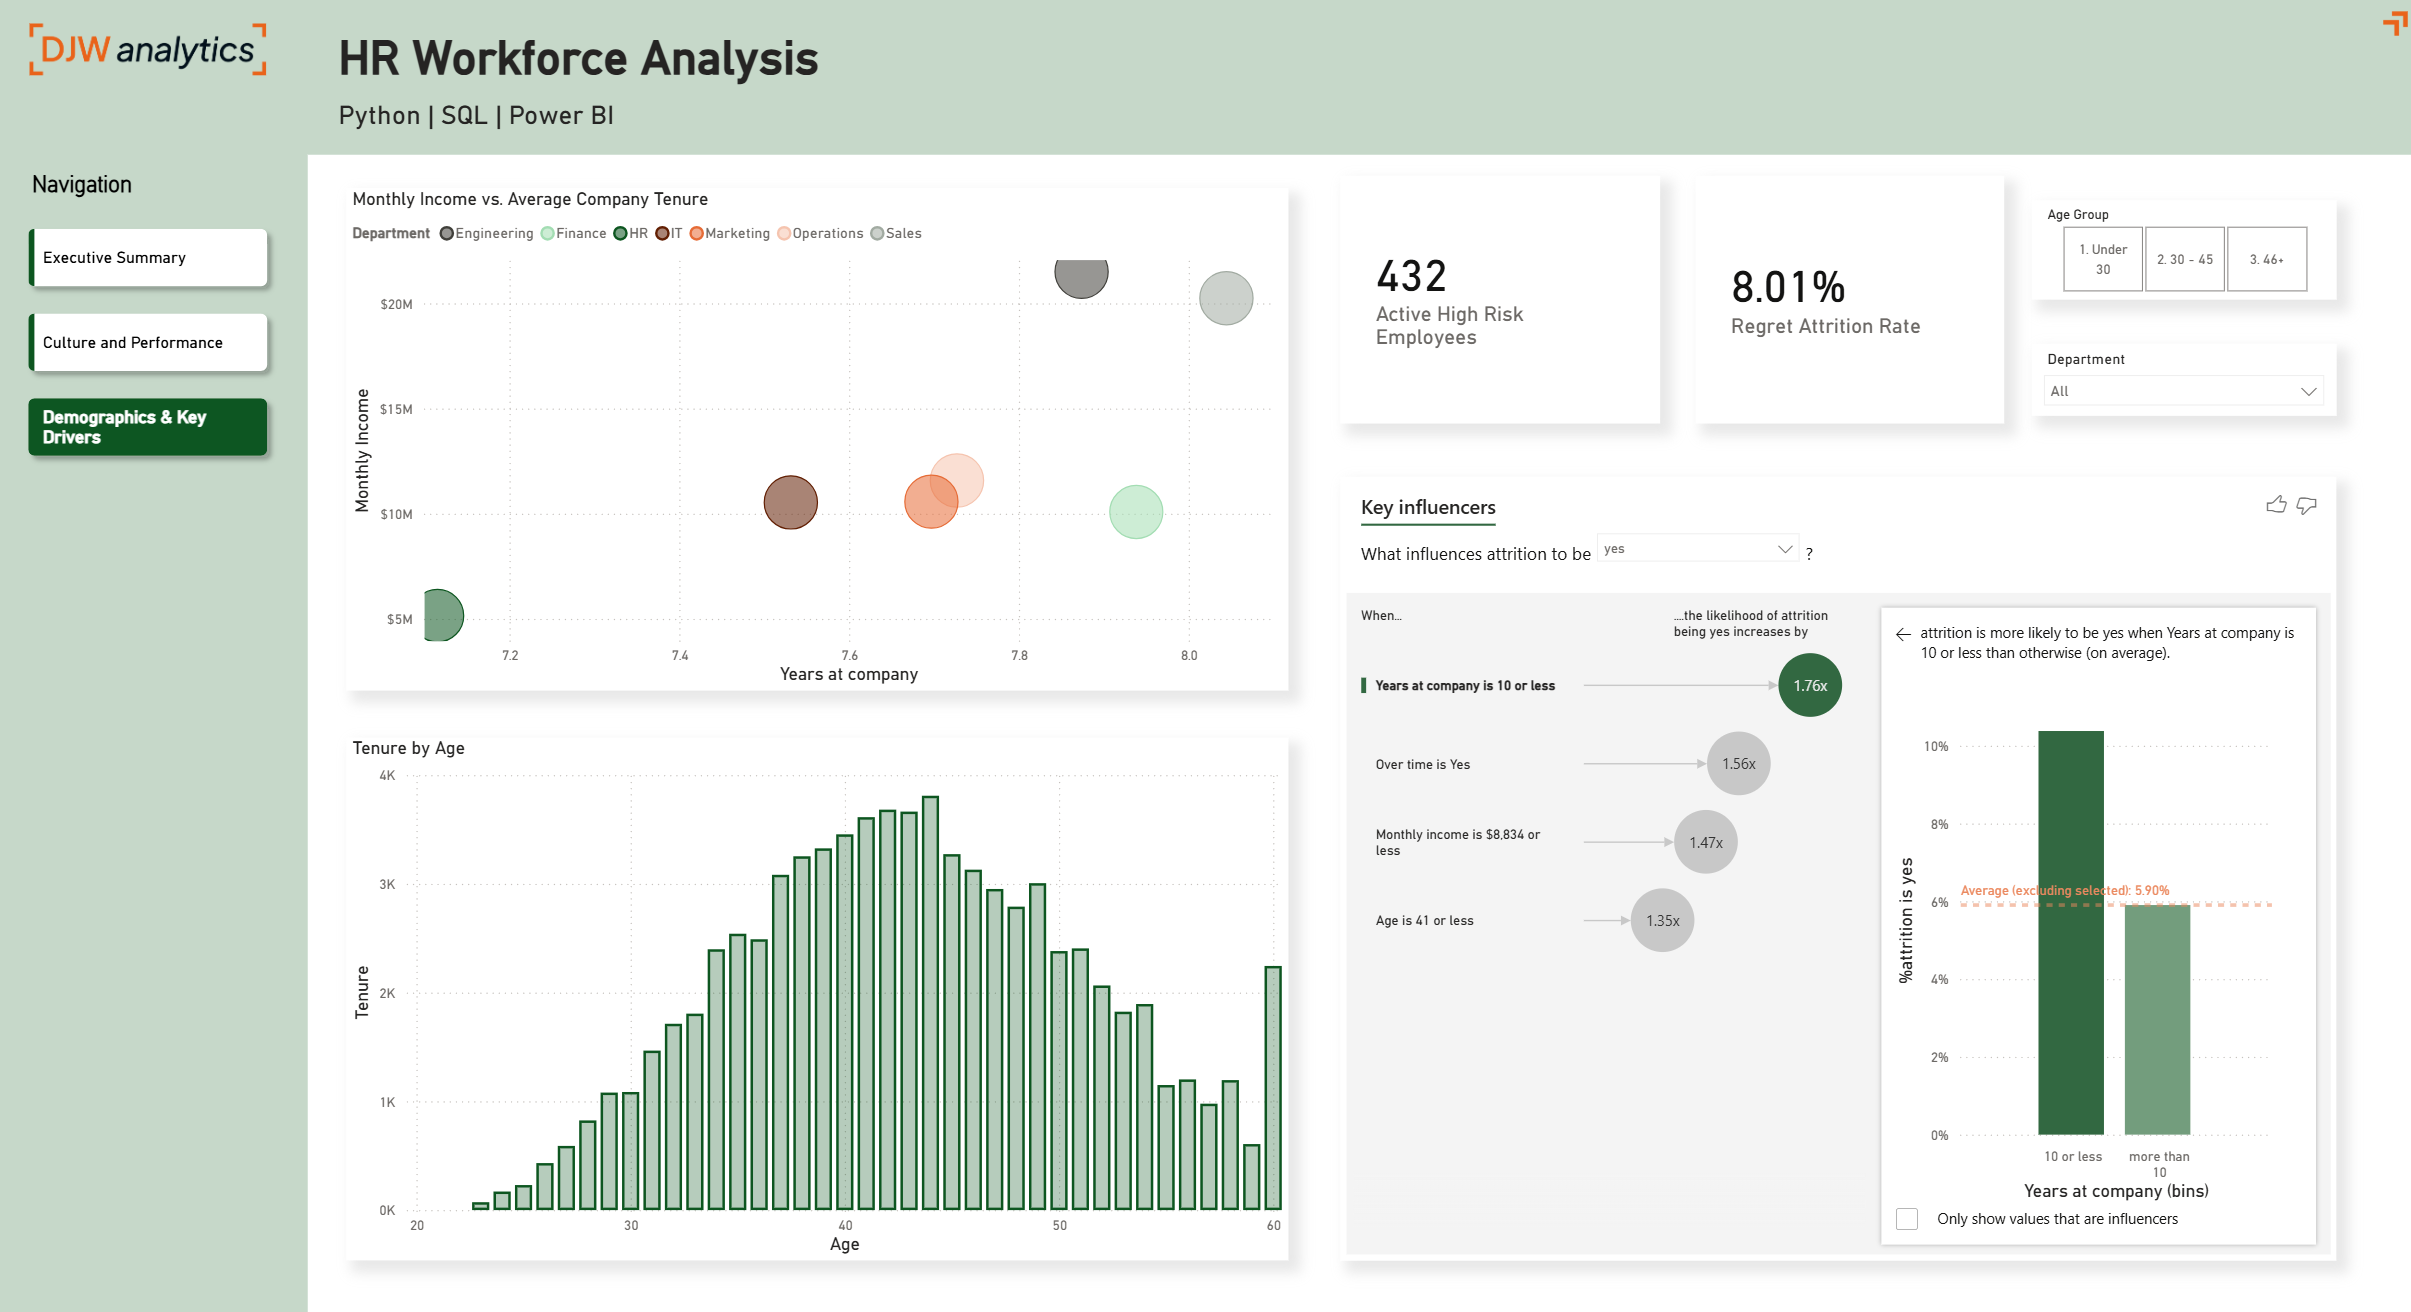

The page's visual inventory and layout, read from the dashboard file:
{"tool":"powerbi","page":{"name":"Demographics & Key Drivers","canvas":[1980,1080],"ordinal":2},"visuals":[{"type":"shape","box":[253.3,126.7,1726.7,953.3],"z":0},{"type":"slicer","fields":{"Values":["public dim_employee.Age Group"]},"box":[1660,164.4,248.9,81.1],"z":1000},{"type":"slicer","fields":{"Values":["public dim_department.department_name"]},"box":[1660,281.1,248.9,58.9],"z":2000},{"type":"textbox","box":[272.2,20,485.6,57.8],"z":3000},{"type":"textbox","box":[272.2,77.8,243.3,38.9],"z":4000},{"type":"image","box":[22.2,20,198.9,42.2],"z":5000},{"type":"image","box":[1947.8,6.7,20,25.6],"z":6000},{"type":"pageNavigator","box":[15.6,178.9,213.3,203.3],"z":7000},{"type":"textbox","box":[22.2,134.4,131.1,38.9],"z":8000},{"type":"keyDriversVisual","fields":{"ExplainBy":["public dim_employee.age","public fact_employee_metrics.monthly_income","public fact_employee_metrics.years_at_company","public dim_hr_flags.over_time"],"Target":["public fact_employee_metrics.attrition"]},"box":[1095.6,390,813.3,640],"z":9000},{"type":"clusteredColumnChart","fields":{"Category":["public dim_employee.age"],"Y":["Sum(public fact_employee_metrics.years_at_company)"]},"box":[284.4,603.3,768.9,426.7],"z":10000},{"type":"cardVisual","fields":{"Data":["_key measures.Active High Risk Employees"]},"box":[1095.6,144.4,261.1,202.2],"z":11000},{"type":"cardVisual","fields":{"Data":["_key measures.Regret Attrition Rate"]},"box":[1385.6,144.4,252.2,202.2],"z":12000},{"type":"scatterChart","title":"Monthly Income vs. Average Company Tenure","fields":{"Series":["public dim_department.department_name"],"Size":["Avg(public dim_employee.age)"],"X":["Avg(public fact_employee_metrics.years_at_company)"],"Y":["Sum(public fact_employee_metrics.monthly_income)"]},"box":[284.4,154.4,768.9,410],"z":13000}]}

Visuals, with their boxes in screenshot pixels (x1, y1, x2, y2), scaled from the page's 1980x1080 canvas onto the 2411x1312 screenshot:
shape: [308,154,2410,1311]
slicer - public dim_employee.Age Group: [2021,200,2324,298]
slicer - public dim_department.department_name: [2021,341,2324,413]
textbox: [331,24,923,95]
textbox: [331,95,628,142]
image: [27,24,269,76]
image: [2372,8,2396,39]
pageNavigator: [19,217,279,464]
textbox: [27,163,187,211]
keyDriversVisual - public dim_employee.age x public fact_employee_metrics.monthly_income: [1334,474,2324,1251]
clusteredColumnChart - public dim_employee.age x Sum(public fact_employee_metrics.years_at_company): [346,733,1283,1251]
cardVisual - _key measures.Active High Risk Employees: [1334,175,1652,421]
cardVisual - _key measures.Regret Attrition Rate: [1687,175,1994,421]
"Monthly Income vs. Average Company Tenure" scatterChart: [346,188,1283,686]
